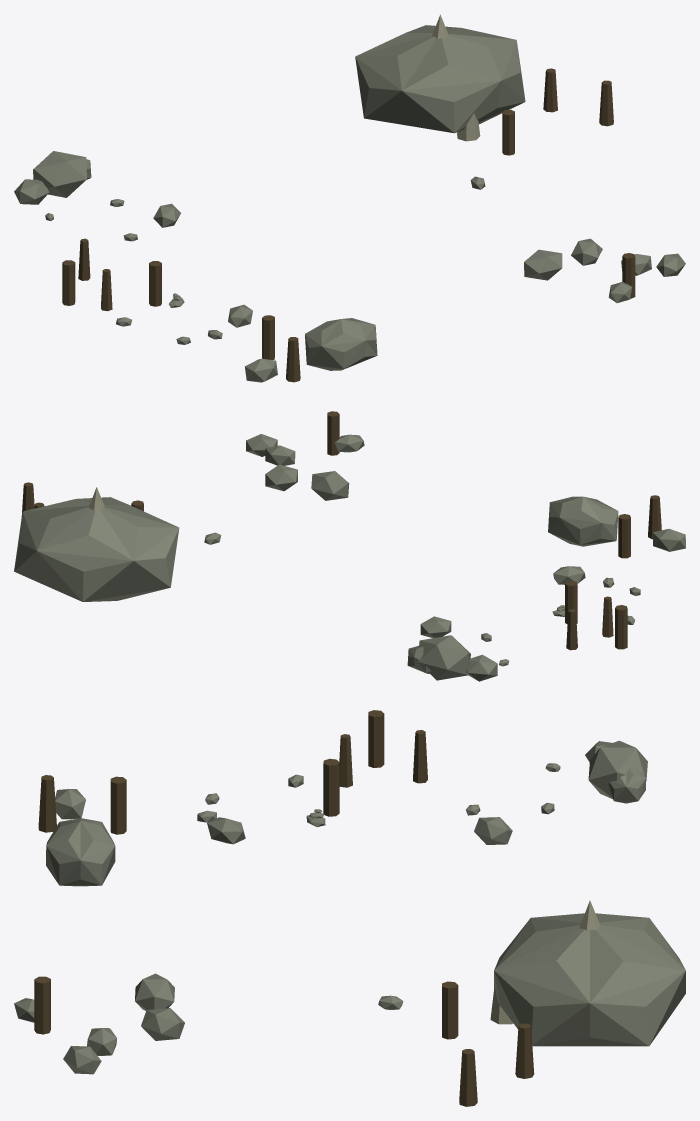
File: cliff_overlook_gate_solid_props.fbx
3 views of the same model, one above another, from view 1: azimuth 30°, elevation 25°; view 2: azimuth 150°, elevation 25°; view 3: azimuth 270°, elevation 25° (orthographic). The views are drawn at different scales.
Parts seen in each view (by area): view 1: chunk_cliff_overlook_gate__PropsSolid; view 2: chunk_cliff_overlook_gate__PropsSolid; view 3: chunk_cliff_overlook_gate__PropsSolid.
Part boxes in pixels (box(x1,y1,x2,y2)): chunk_cliff_overlook_gate__PropsSolid: box(14, 14, 685, 382); chunk_cliff_overlook_gate__PropsSolid: box(14, 411, 685, 681); chunk_cliff_overlook_gate__PropsSolid: box(14, 710, 685, 1106).
Size of the model in its own units: 213 by 47.12 by 167.
